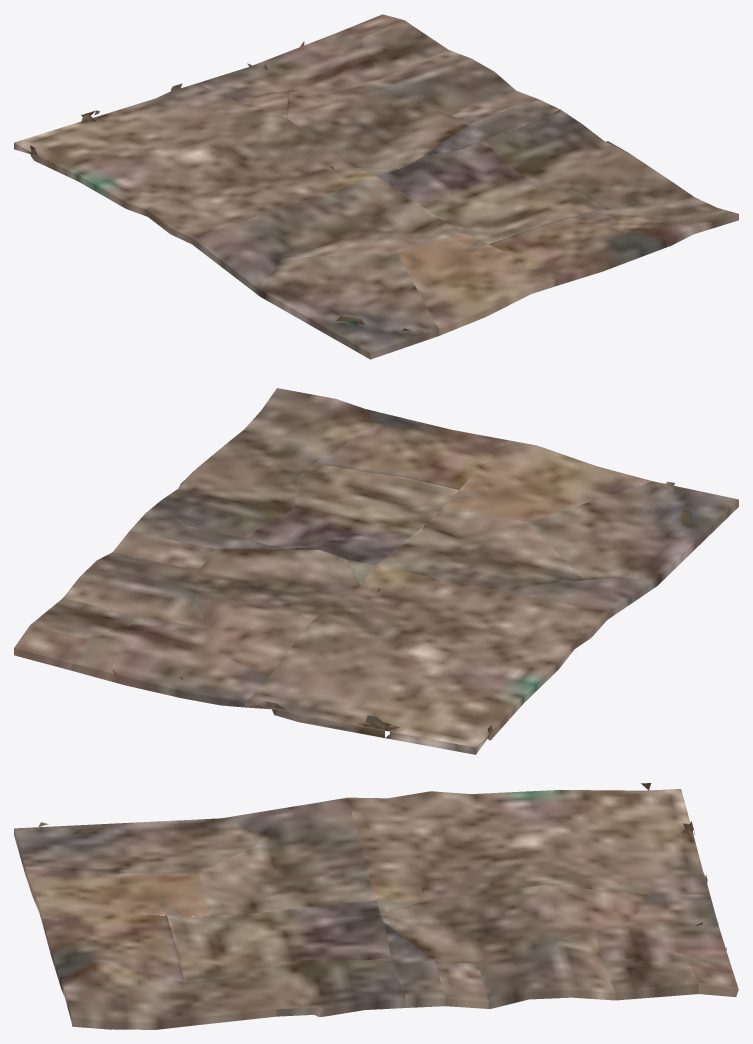
3 views of the same model, one above another, from view 1: azimuth 30°, elevation 25°; view 2: azimuth 150°, elevation 25°; view 3: azimuth 270°, elevation 25° (orthographic). The views are drawn at different scales.
Parts seen in each view (by area): view 1: Mesh_0; view 2: Mesh_0; view 3: Mesh_0.
Part boxes in pixels (x1,y1,x2,y2): Mesh_0: (14, 14, 738, 359); Mesh_0: (14, 388, 738, 754); Mesh_0: (14, 783, 738, 1029).
Size of the model in its own units: 1064 by 74.49 by 1318.
Materials: 1 (1 with a texture image).
